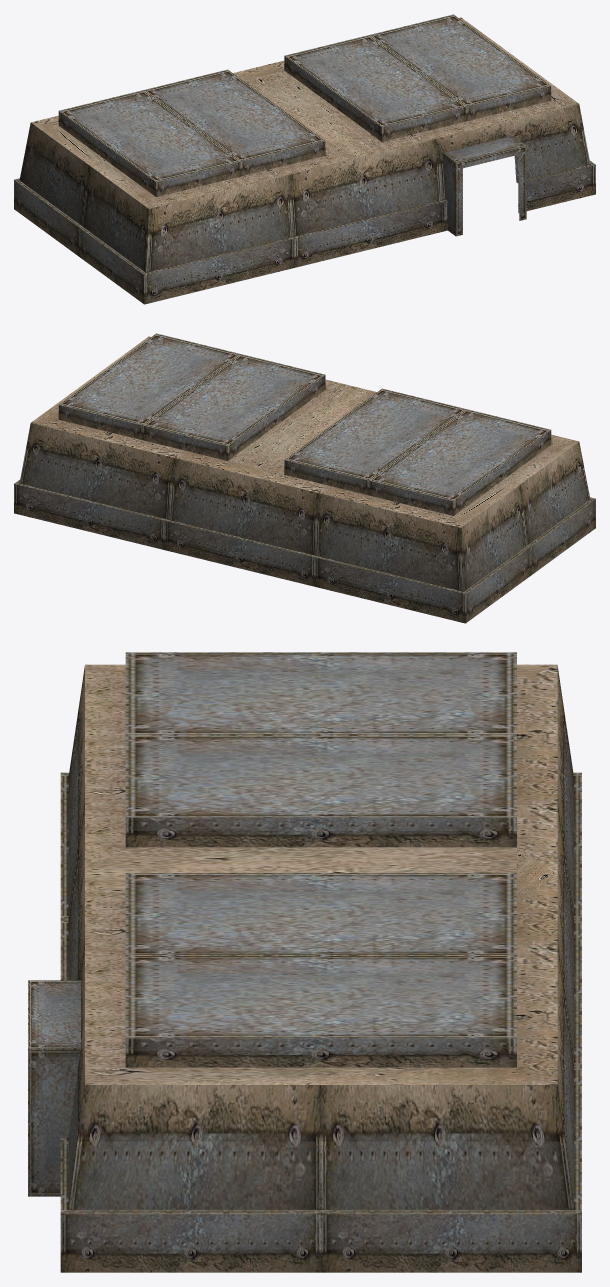
Rendered from M11Z1_MissileBunker.glb.
3 renders of one model, top to bottom at view 1: azimuth 30°, elevation 25°; view 2: azimuth 150°, elevation 25°; view 3: azimuth 270°, elevation 25°, orthographic. The views are drawn at different scales.
Parts seen in each view (by area): view 1: M11Z1_MISSILEBUNKER; view 2: M11Z1_MISSILEBUNKER; view 3: M11Z1_MISSILEBUNKER.
Part boxes in pixels (<box>): M11Z1_MISSILEBUNKER: <box>14,14,595,304</box>; M11Z1_MISSILEBUNKER: <box>14,333,595,623</box>; M11Z1_MISSILEBUNKER: <box>28,652,581,1272</box>.
Bounding box in the file's own units: 16 × 3.5 × 8.5.
Materials: 3 (3 with a texture image).
